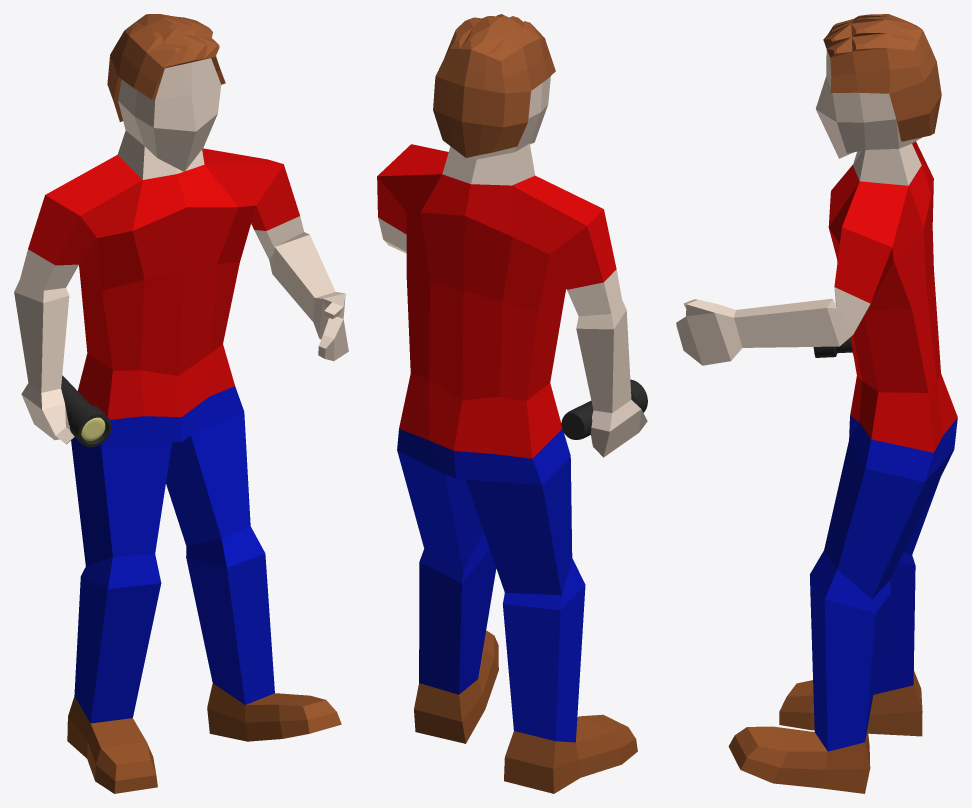
Rendered from Human_grabbing_14.fbx.
3 renders of one model, left to right at view 1: azimuth 30°, elevation 25°; view 2: azimuth 150°, elevation 25°; view 3: azimuth 270°, elevation 25°, orthographic. The views are drawn at different scales.
Parts seen in each view (by area): view 1: Person.003, Cylinder.002; view 2: Person.003, Cylinder.002; view 3: Person.003.
Part boxes in pixels (x1,y1,x2,y2): Person.003: (14, 14, 348, 793); Cylinder.002: (61, 375, 111, 447); Person.003: (377, 14, 647, 793); Cylinder.002: (561, 379, 647, 439); Person.003: (676, 14, 957, 793).
Bounding box in the file's own units: 0.5874 × 1.57 × 0.5455.
